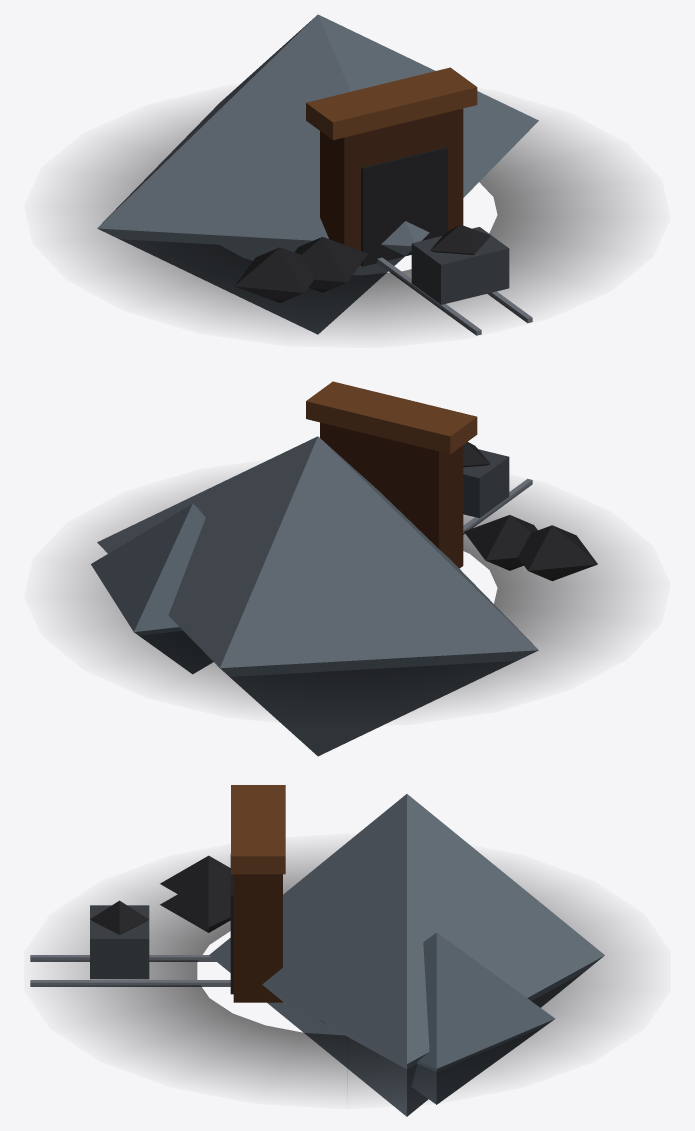
The model's file is coal_mine_t0.glb.
3 renders of one model, top to bottom at view 1: azimuth 30°, elevation 25°; view 2: azimuth 150°, elevation 25°; view 3: azimuth 270°, elevation 25°, orthographic.
Parts seen in each view (by area): view 1: coal_mine_t0; view 2: coal_mine_t0; view 3: coal_mine_t0.
Part boxes in pixels (bbox=[...]): coal_mine_t0: bbox=[64, 14, 630, 335]; coal_mine_t0: bbox=[64, 381, 630, 756]; coal_mine_t0: bbox=[30, 785, 630, 1116].
Bounding box in the file's own units: 6.8 × 3.6 × 6.73.
